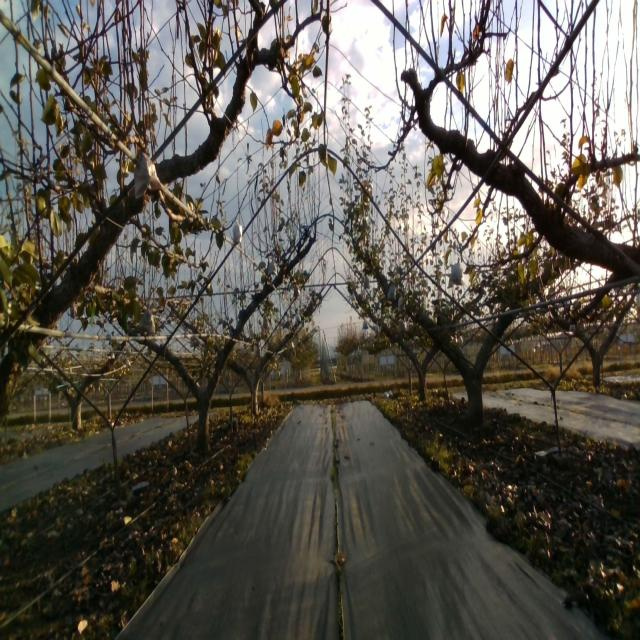pearbags: (133, 148, 163, 199), (450, 256, 463, 284), (232, 217, 244, 244), (268, 257, 278, 277)
